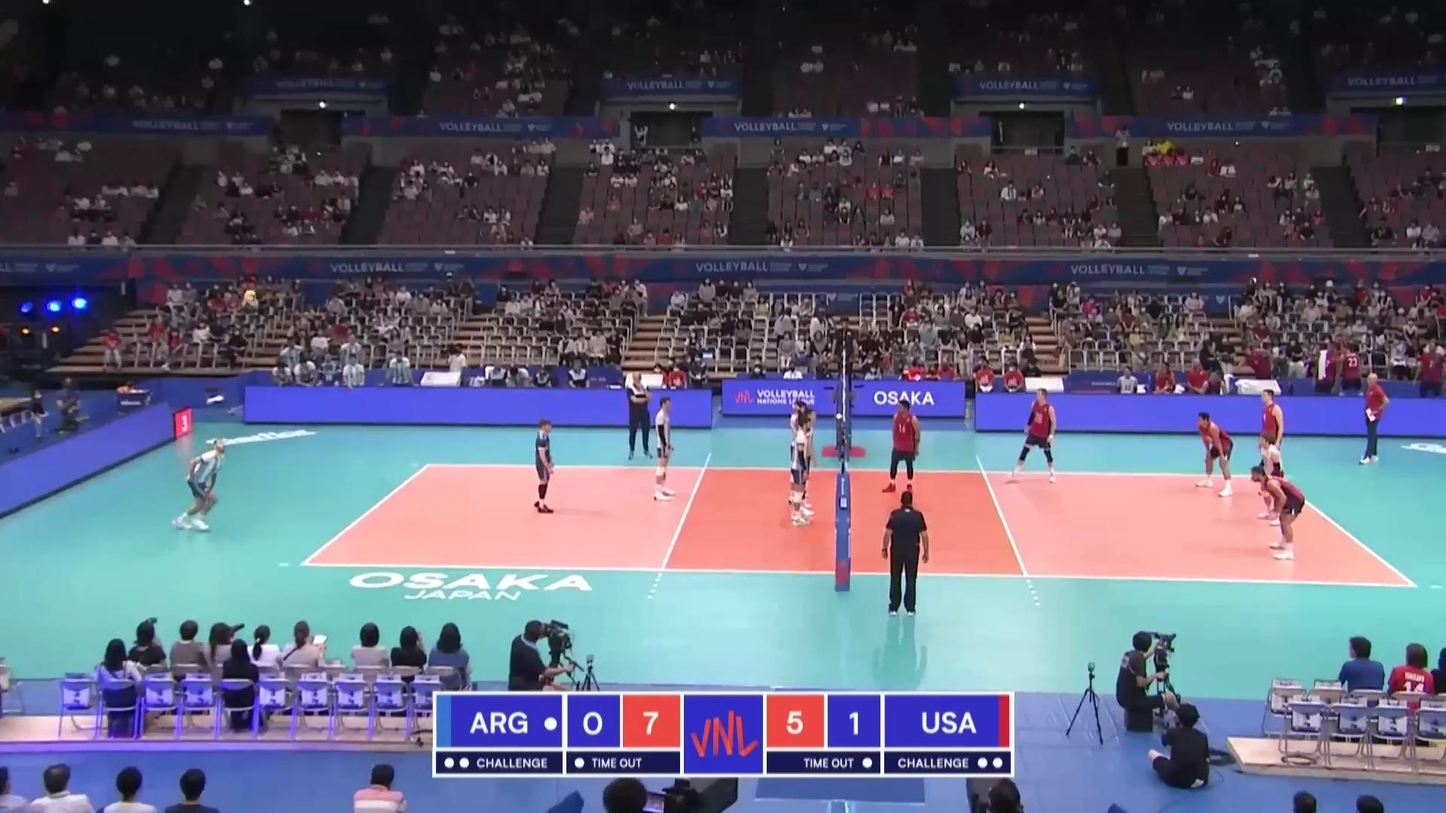player: (1251, 466, 1306, 562), (1006, 387, 1060, 482), (174, 439, 228, 533), (886, 399, 922, 500), (1195, 411, 1234, 500), (1256, 388, 1285, 498), (652, 395, 677, 502), (1256, 434, 1285, 524), (790, 417, 812, 527), (795, 410, 817, 515), (532, 419, 555, 512), (789, 401, 807, 501)
refree: (880, 494, 927, 615), (832, 318, 859, 384)
